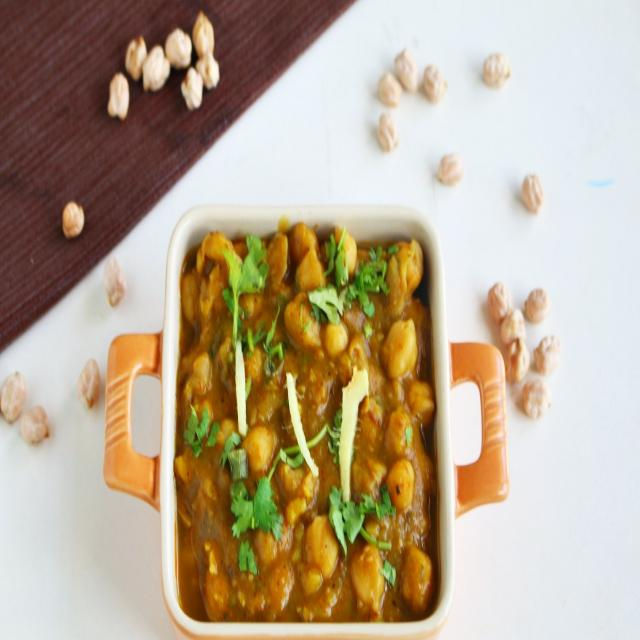Chole: (174, 221, 438, 623)
